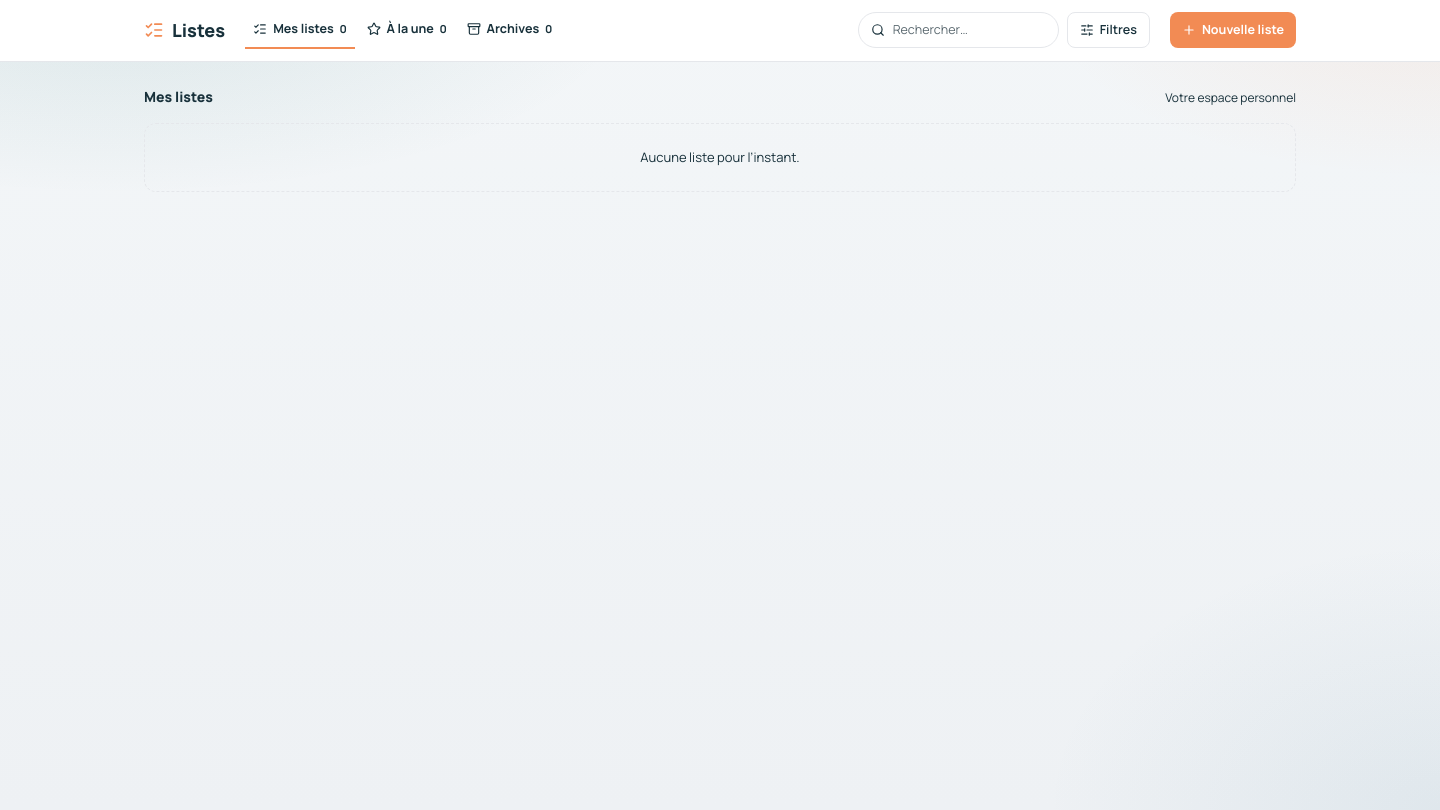
Test: ListsManageView — erreurs de lecture (revue architecte) › la relance « à la une » redemande la liste au service
What coordinates should you click on to do the following:
click the tab "À la une 0"
I would click on:
 (407, 30)
Its box is [359,12,455,49].
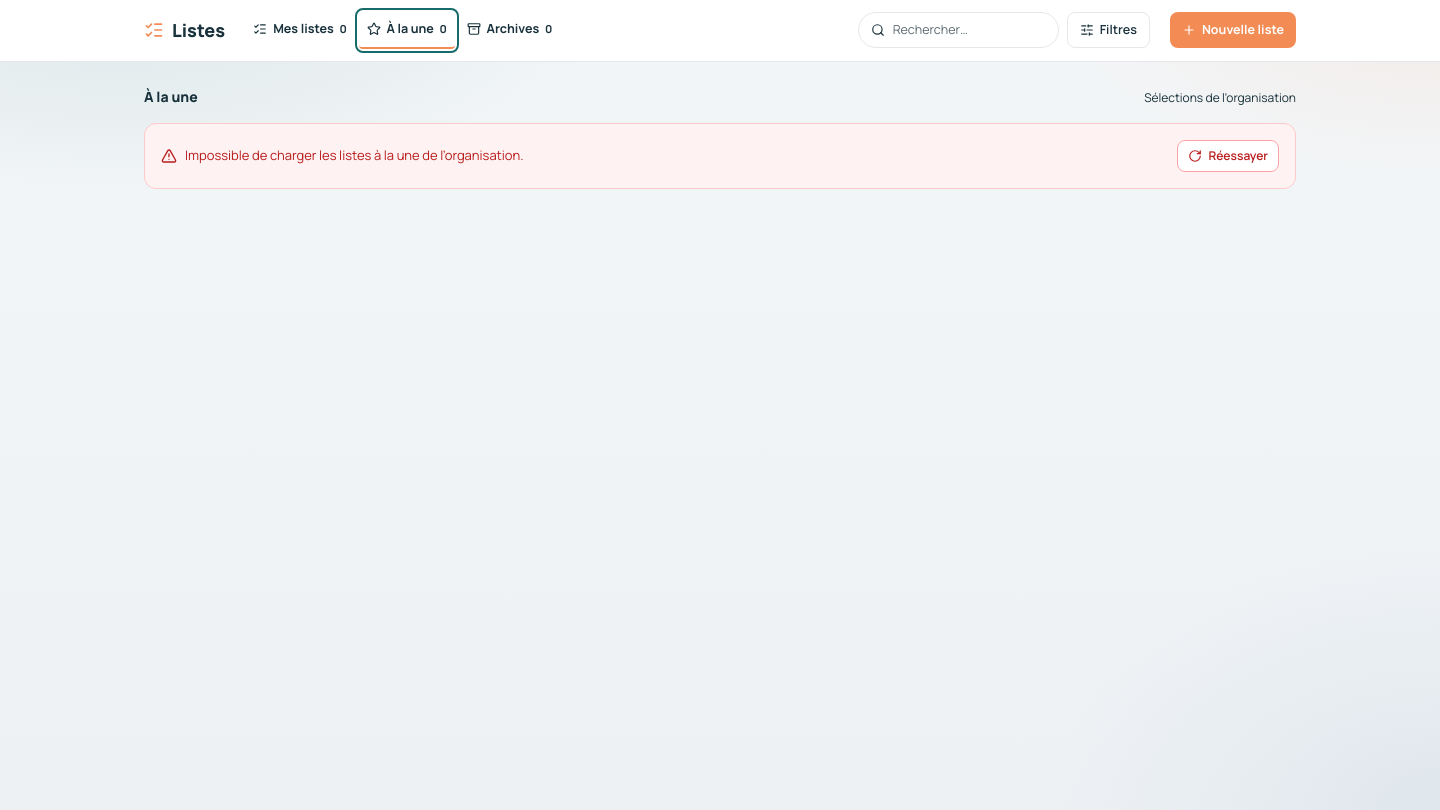
Now the button "Réessayer" is shown
What coordinates should you click on to do the following:
click the button "Réessayer"
I would click on:
 (1228, 156)
Its box is [1177,140,1279,172].
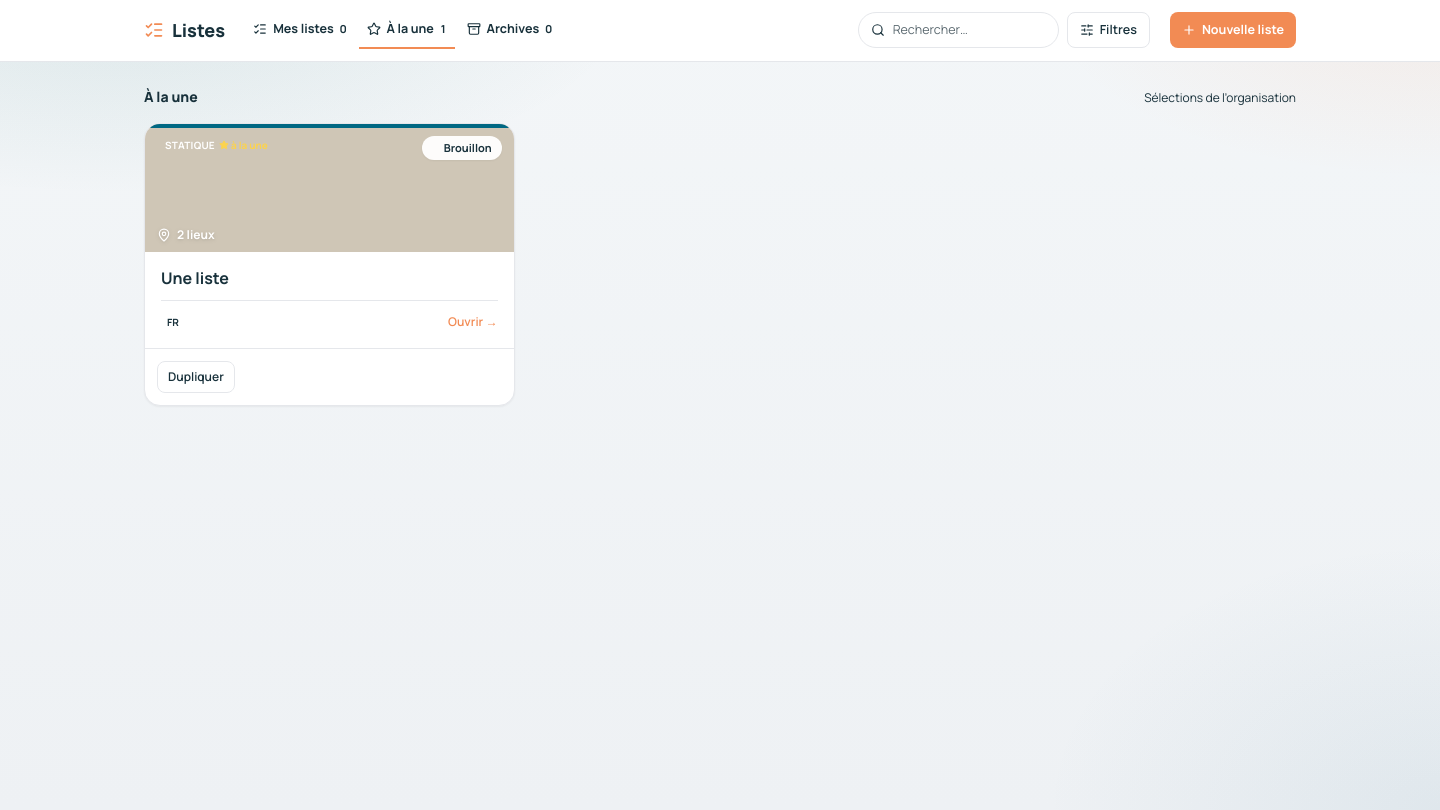
Now the heading "Une liste" is shown, box [161,267,229,289]
